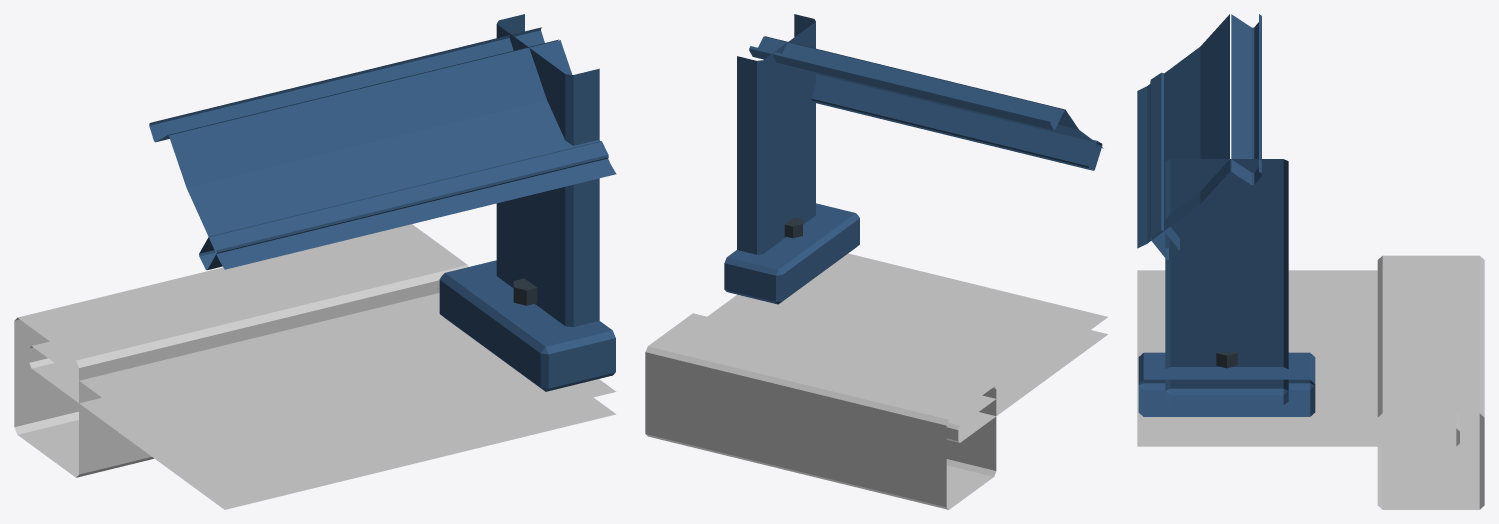
File: cell_6.obj
3 views of the same model, side by side, from view 1: azimuth 30°, elevation 25°; view 2: azimuth 150°, elevation 25°; view 3: azimuth 270°, elevation 25° (orthographic). The views are drawn at different scales.
Bounding box in the file's own units: 1 × 1 × 0.93.
